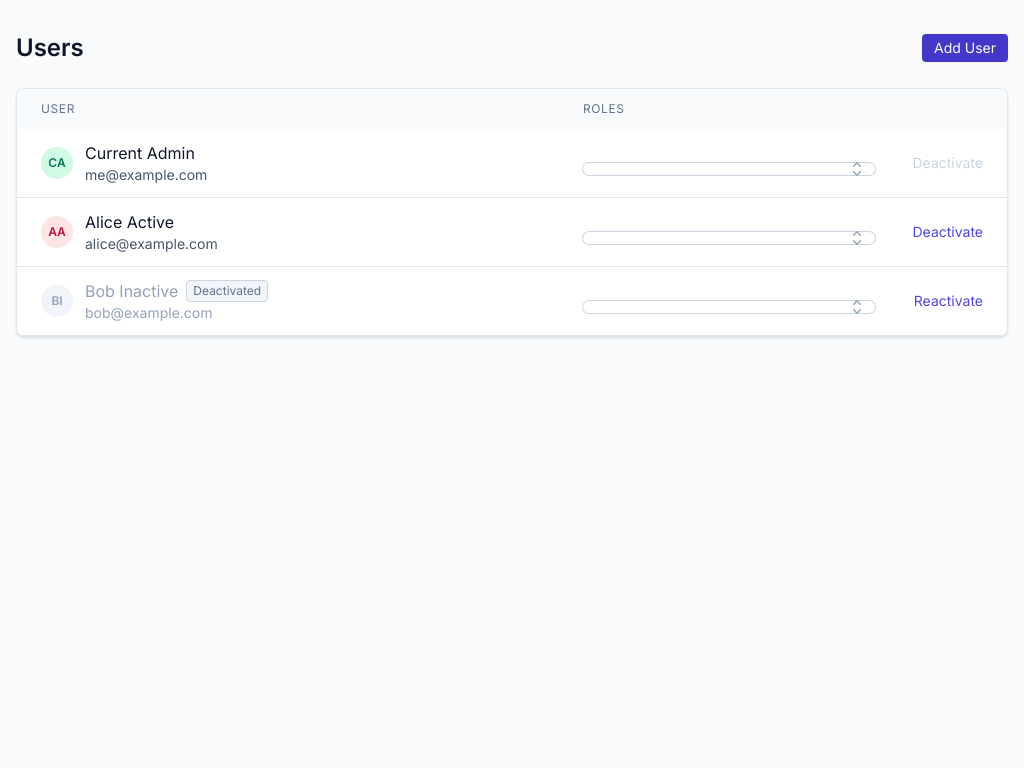
Test: UserSettings › deactivates another user after confirmation, never the current user
The width and height of the screenshot is (1024, 768).
Expected: the button with test id "deactivate-user" in the row of "me@example.com" is disabled, [912,153,983,173]
Click the button with test id "deactivate-user" in the row of "alice@example.com".
click(948, 232)  # box [912,222,983,242]
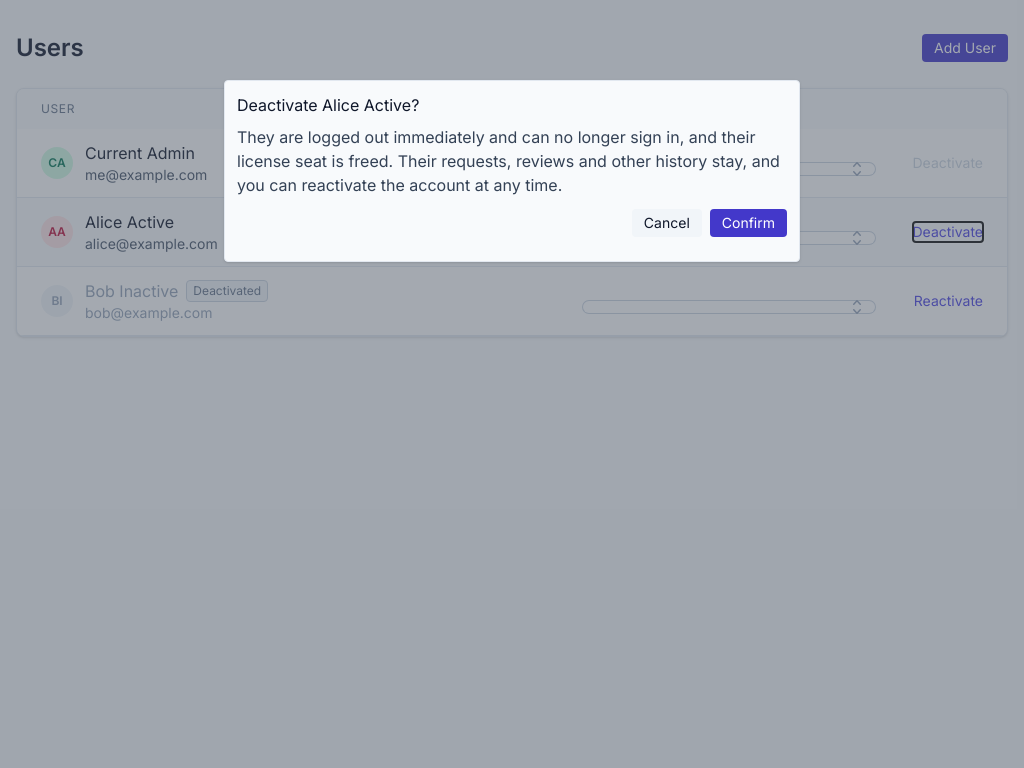
Click the button "Confirm".
click(748, 223)  # box [710,209,787,237]
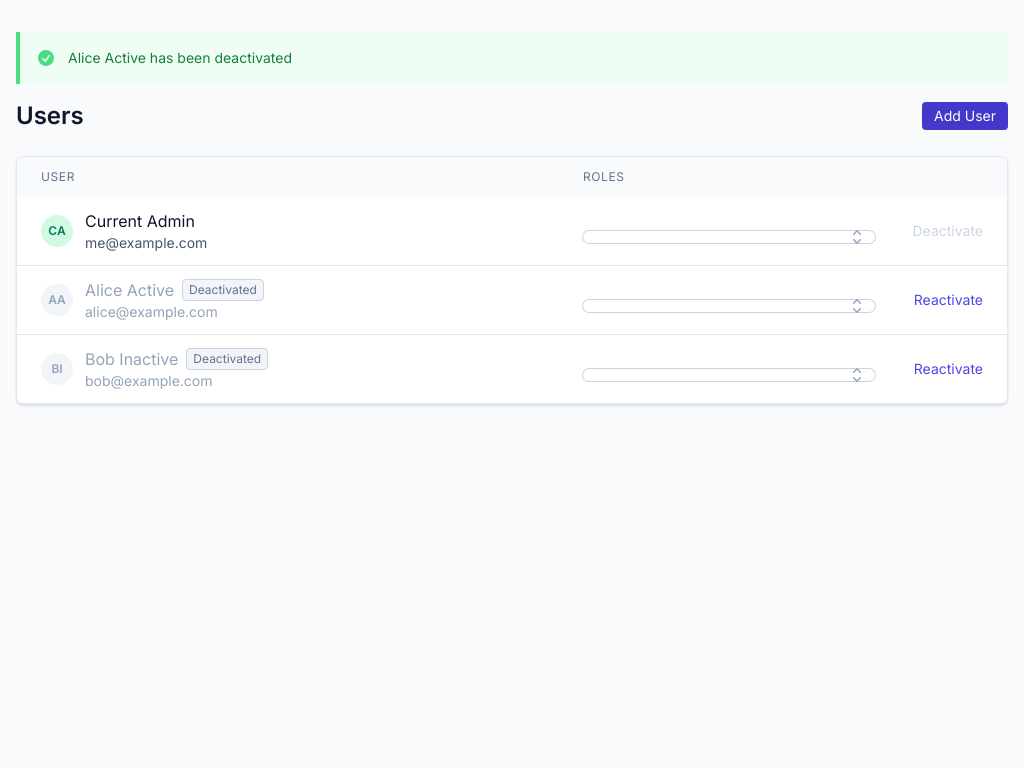
Expected: the text "Alice Active has been deactivated" is shown, [68,48,292,68]
